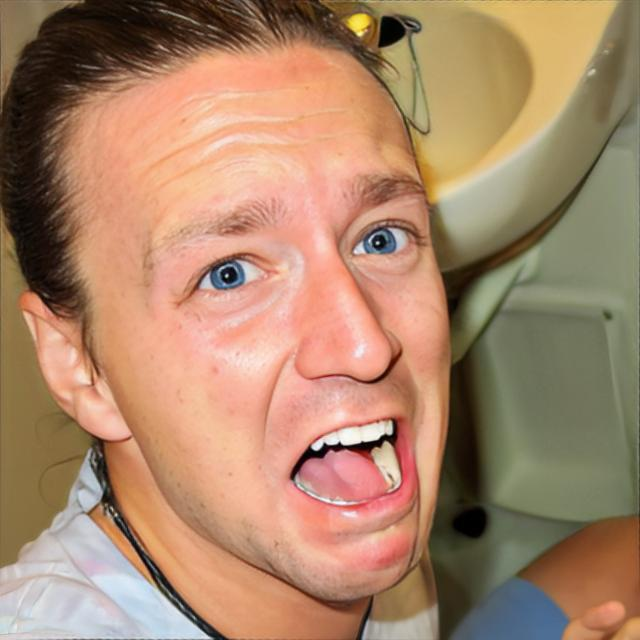fear: (64, 55, 457, 603)
